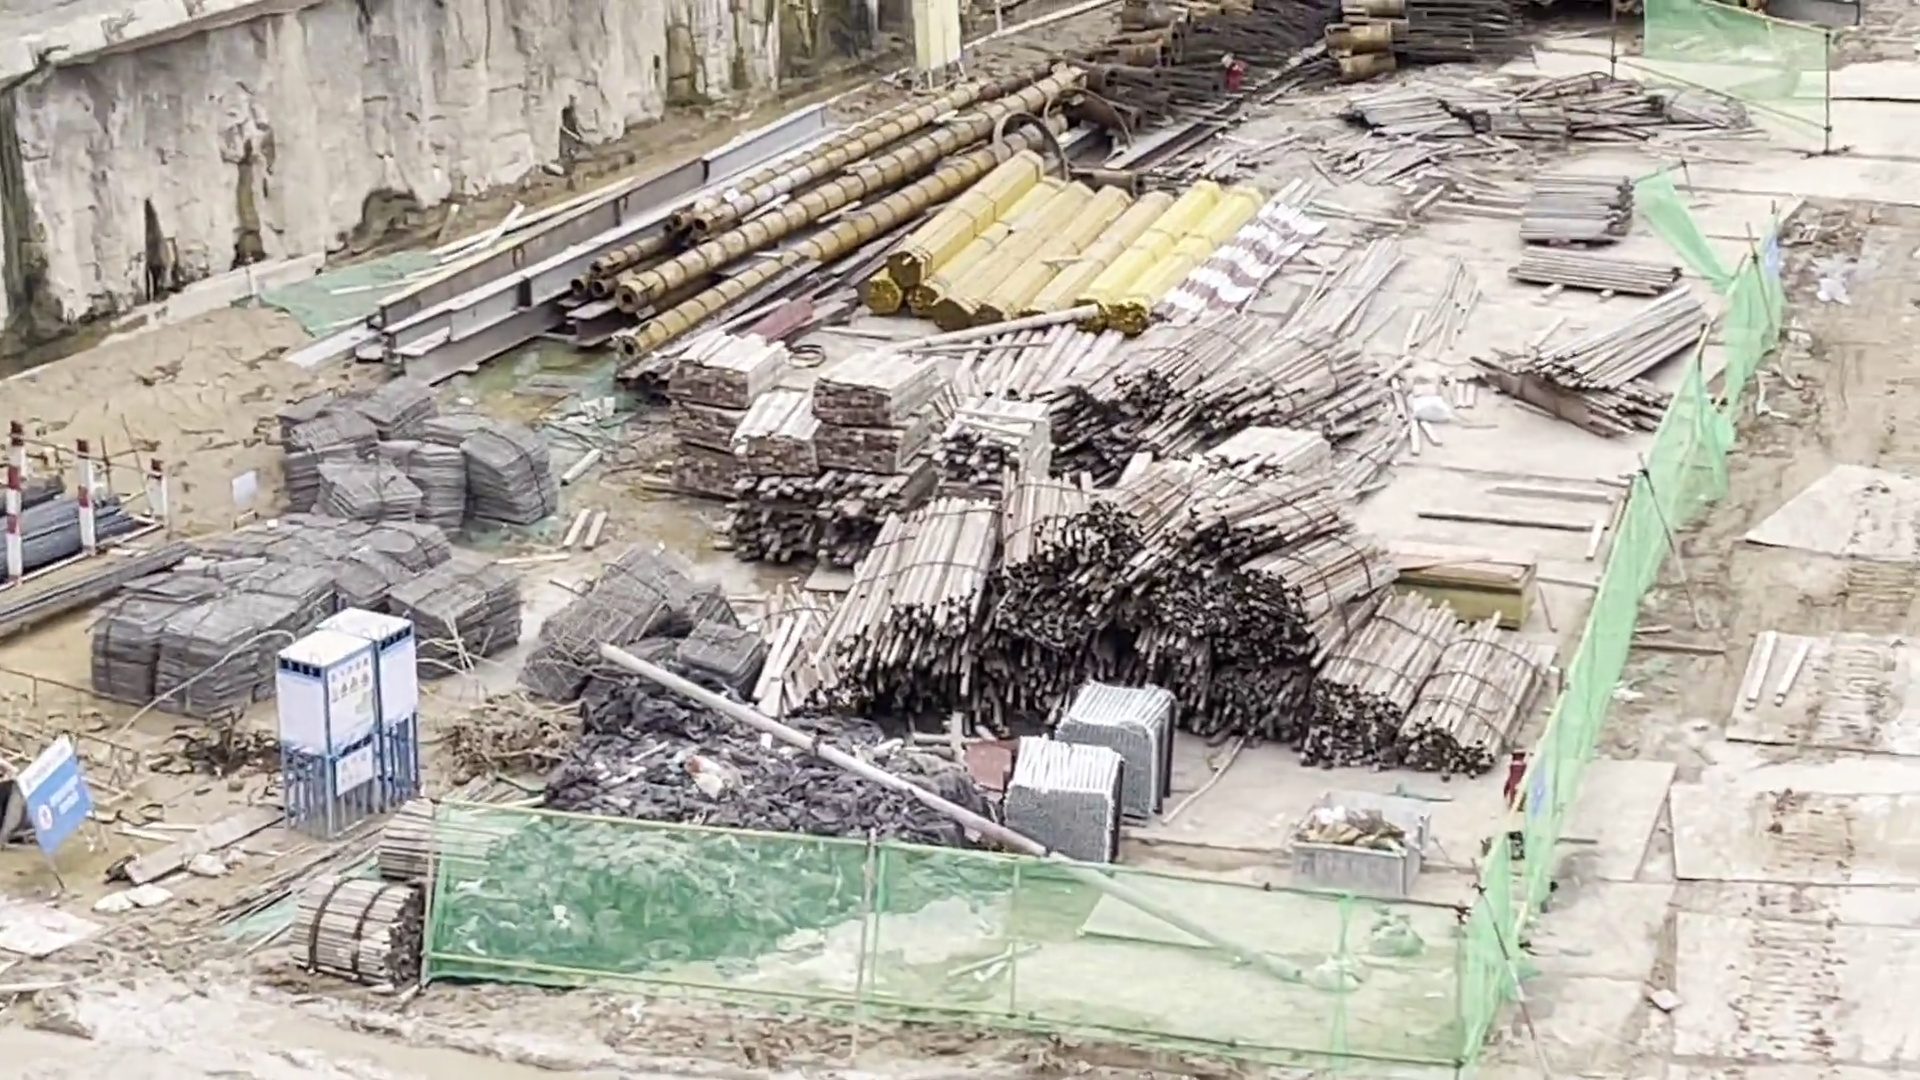hopper: (1295, 789, 1422, 886)
rebar: (3, 484, 160, 618)
scaffold: (1067, 675, 1174, 825), (1017, 733, 1118, 858)
slogan: (17, 738, 83, 851)
wood: (789, 452, 1549, 705), (956, 340, 1379, 464), (674, 348, 919, 495), (1516, 293, 1684, 404), (1520, 171, 1662, 286), (295, 870, 417, 975), (378, 791, 495, 877)
